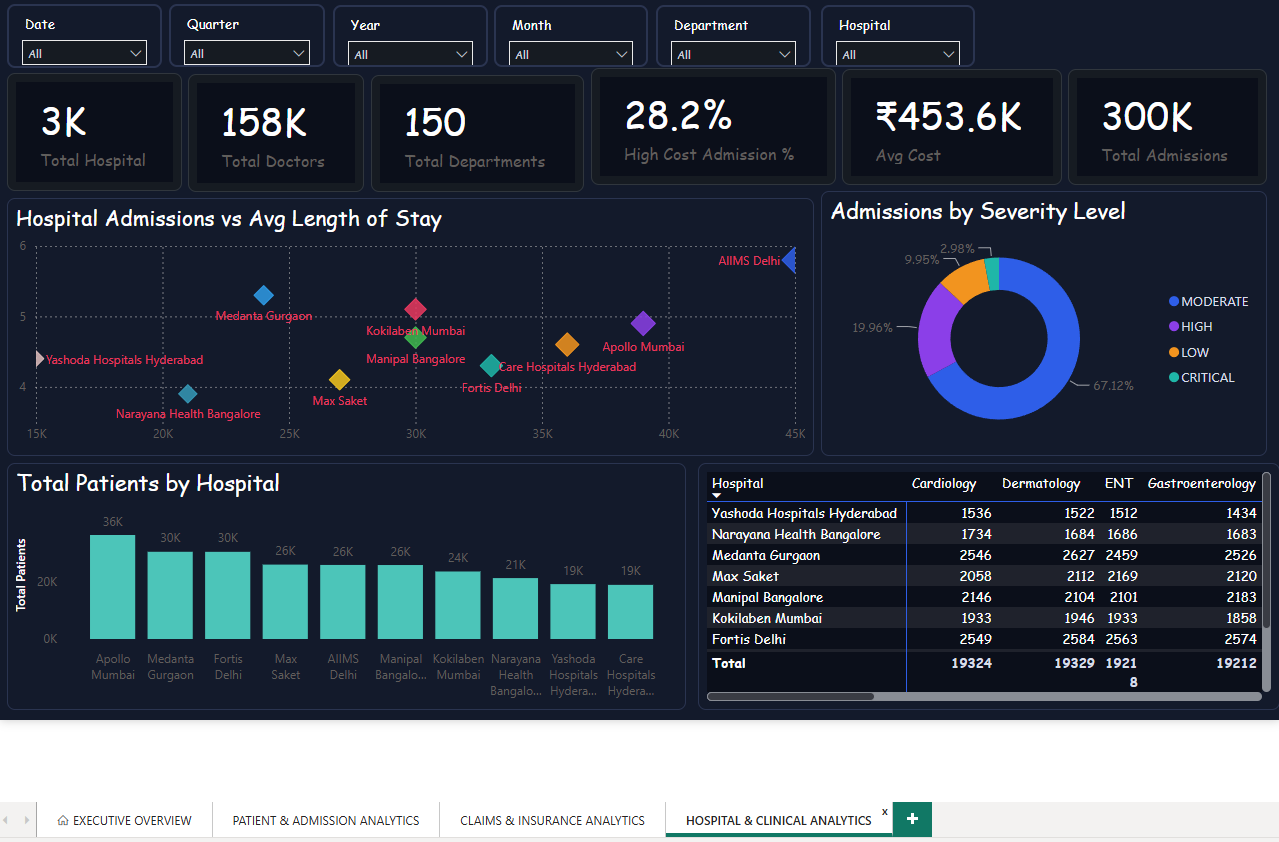

Layout of this report page (visuals, bound fields, positions):
{"tool":"powerbi","page":{"name":"HOSPITAL & CLINICAL ANALYTICS","canvas":[1280,720],"ordinal":3},"visuals":[{"type":"cardVisual","fields":{"Data":["Max(Insurance Companies.Total Hospital)"]},"box":[7.1,72.7,174.7,117.9],"z":1000},{"type":"clusteredColumnChart","fields":{"Category":["dim_hospital.hospital_name"],"Y":["_All Measures.Total Admissions"]},"box":[734,481,87,67],"z":2000},{"type":"tableEx","fields":{"Values":["dim_hospital.department","_All Measures.Average Length of Stay","_All Measures.Total Patients"]},"box":[38,472,339,181],"z":3000},{"type":"donutChart","title":"Admissions by Severity Level","fields":{"Category":["dim_diagnostics.severity_level"],"Y":["_All Measures.Total Admissions"]},"box":[821,191,446,265],"z":4000},{"type":"pivotTable","fields":{"Rows":["dim_hospital.hospital_name"],"Columns":["dim_hospital.department"],"Values":["_All Measures.Total Patients"]},"box":[698,463,582,247],"z":5000},{"type":"scatterChart","title":"Hospital Admissions vs Avg Length of Stay","fields":{"X":["fact_admissions.Fake Hospital Admissions"],"Category":["Fake Hospitals.Hospital"],"Y":["fact_admissions.Fake Avg Length of Stay"],"Size":["fact_admissions.Fake Hospital Admissions"]},"box":[7,198,807,258],"z":6000},{"type":"clusteredColumnChart","fields":{"Category":["dim_hospital.hospital_name"],"Y":["_All Measures.Total Patients"]},"box":[7,463,679,247],"z":7000},{"type":"cardVisual","fields":{"Data":["Min(Insurance Companies.Total Doctors)"]},"box":[188,74.5,176.5,117.9],"z":8000},{"type":"cardVisual","fields":{"Data":["Min(Insurance Companies.Total Department)"]},"box":[370.6,75.4,213.7,117],"z":9000},{"type":"cardVisual","fields":{"Data":["_All Measures.Total Admissions"]},"box":[1068,68.7,199.3,116.7],"z":10000},{"type":"cardVisual","fields":{"Data":["Min(Insurance Companies.High Cost Admission %)"]},"box":[591.3,68,244.7,117.3],"z":11000},{"type":"cardVisual","fields":{"Data":["Min(Insurance Companies.Avg Cost)"]},"box":[842,68.7,220,116.7],"z":12000},{"type":"slicer","fields":{"Values":["dim_date.full_date.Variation.Date Hierarchy.Month"]},"box":[493.6,4.5,154.5,62.7],"z":12001},{"type":"slicer","fields":{"Values":["dim_date.Dday"]},"box":[7.1,4.4,155.2,63.8],"z":12002},{"type":"slicer","fields":{"Values":["dim_date.quarter"]},"box":[169.4,4.4,155.2,63],"z":12004},{"type":"slicer","fields":{"Values":["dim_hospital.hospital_name"]},"box":[820.9,4.5,154.5,62.7],"z":12005},{"type":"slicer","fields":{"Values":["dim_hospital.department"]},"box":[656.4,4.5,154.5,62.7],"z":12006},{"type":"slicer","fields":{"Values":["dim_date.year"]},"box":[332.7,4.5,155.5,62.7],"z":12007}]}

Visuals, with their boxes on the page's 1280x720 design canvas (x1, y1, x2, y2). These are canvas units, not pixel positions in the 1279x842 screenshot, which may show the page scaled, cropped or inside an application window:
cardVisual - Max(Insurance Companies.Total Hospital): bbox=(7, 73, 182, 191)
clusteredColumnChart - dim_hospital.hospital_name x _All Measures.Total Admissions: bbox=(734, 481, 821, 548)
tableEx - dim_hospital.department x _All Measures.Average Length of Stay: bbox=(38, 472, 377, 653)
"Admissions by Severity Level" donutChart: bbox=(821, 191, 1267, 456)
pivotTable - dim_hospital.hospital_name x dim_hospital.department: bbox=(698, 463, 1280, 710)
"Hospital Admissions vs Avg Length of Stay" scatterChart: bbox=(7, 198, 814, 456)
clusteredColumnChart - dim_hospital.hospital_name x _All Measures.Total Patients: bbox=(7, 463, 686, 710)
cardVisual - Min(Insurance Companies.Total Doctors): bbox=(188, 74, 364, 192)
cardVisual - Min(Insurance Companies.Total Department): bbox=(371, 75, 584, 192)
cardVisual - _All Measures.Total Admissions: bbox=(1068, 69, 1267, 185)
cardVisual - Min(Insurance Companies.High Cost Admission %): bbox=(591, 68, 836, 185)
cardVisual - Min(Insurance Companies.Avg Cost): bbox=(842, 69, 1062, 185)
slicer - dim_date.full_date.Variation.Date Hierarchy.Month: bbox=(494, 4, 648, 67)
slicer - dim_date.Dday: bbox=(7, 4, 162, 68)
slicer - dim_date.quarter: bbox=(169, 4, 325, 67)
slicer - dim_hospital.hospital_name: bbox=(821, 4, 975, 67)
slicer - dim_hospital.department: bbox=(656, 4, 811, 67)
slicer - dim_date.year: bbox=(333, 4, 488, 67)
